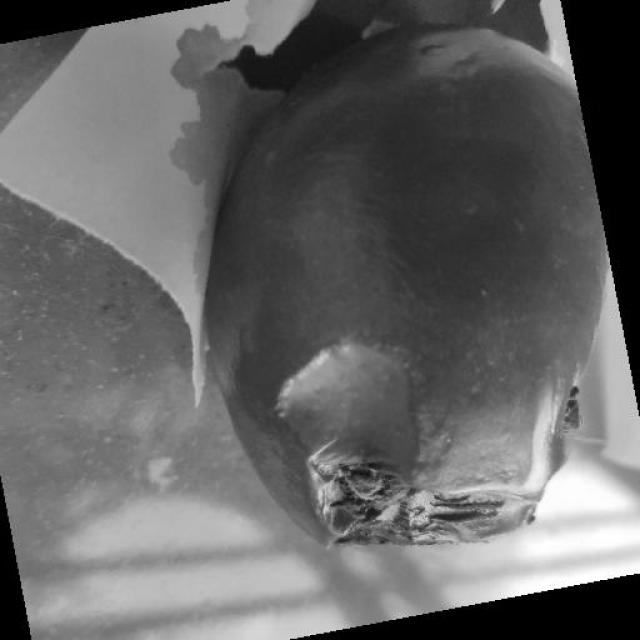Stale_tomato: (181, 12, 603, 562)
